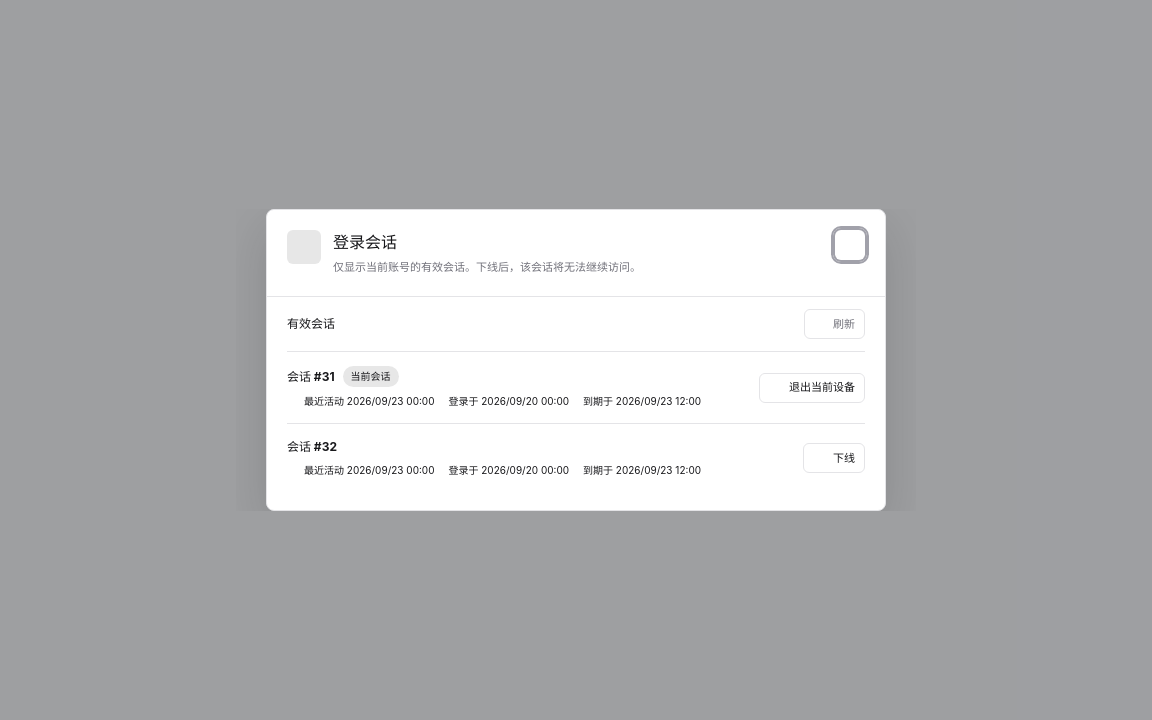
it: session management dialog › keeps the session until confirmation, then revokes it and reports success
This screenshot has width=1152, height=720.
What coordinates should you click on to do the following:
click the button with aria-label "下线会话 32"
I would click on:
 (834, 458)
Its box is [803, 443, 865, 473].
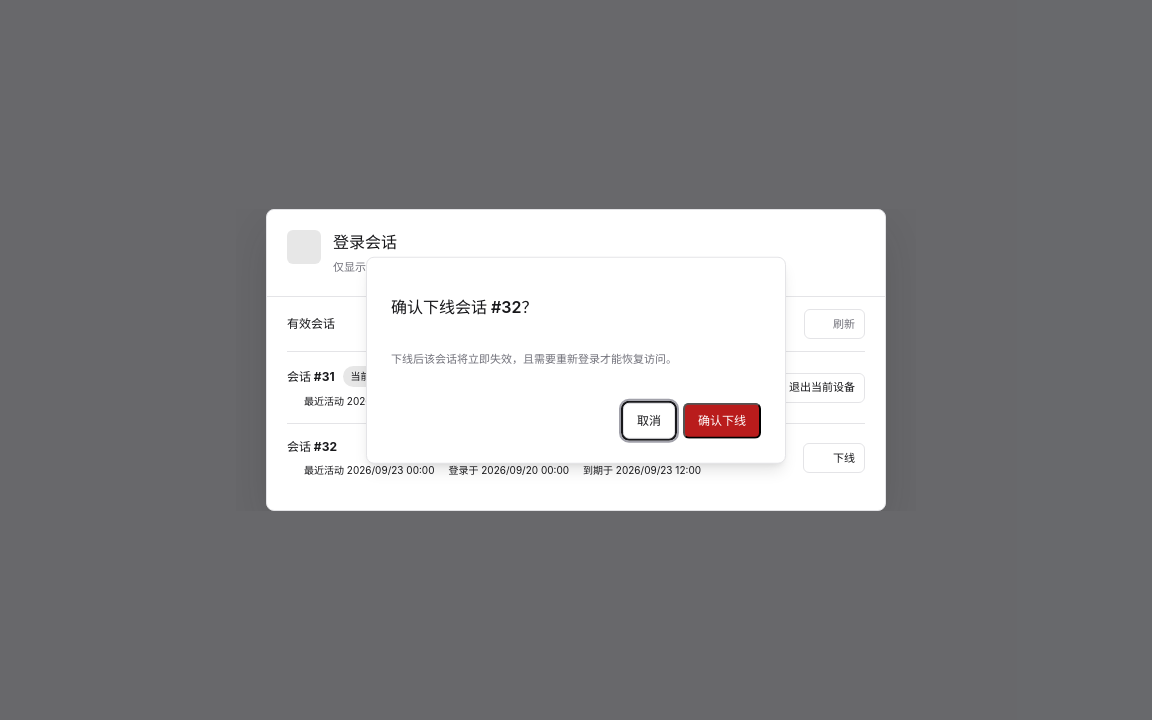
Now the text "确认下线会话 #32" is shown, box [391, 297, 538, 317]
What coordinates should you click on to do the following:
click the button "确认下线"
I would click on:
 (722, 420)
Its box is [683, 402, 761, 438].
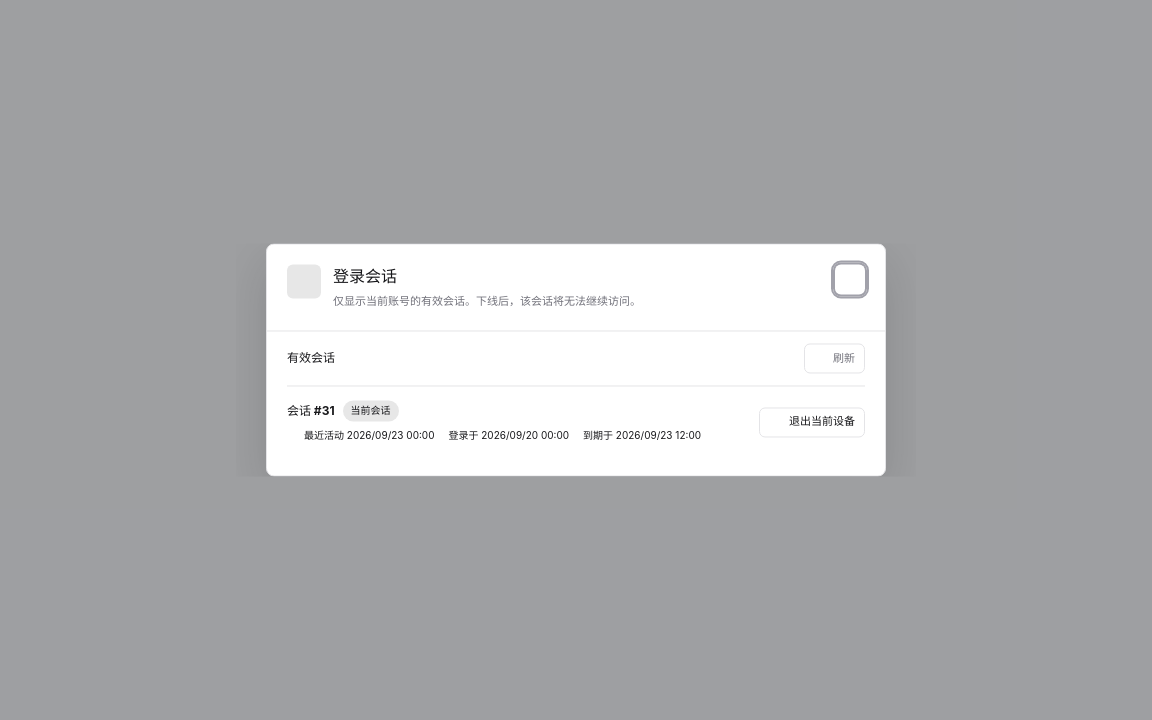
Now the text "会话 #32" is gone
